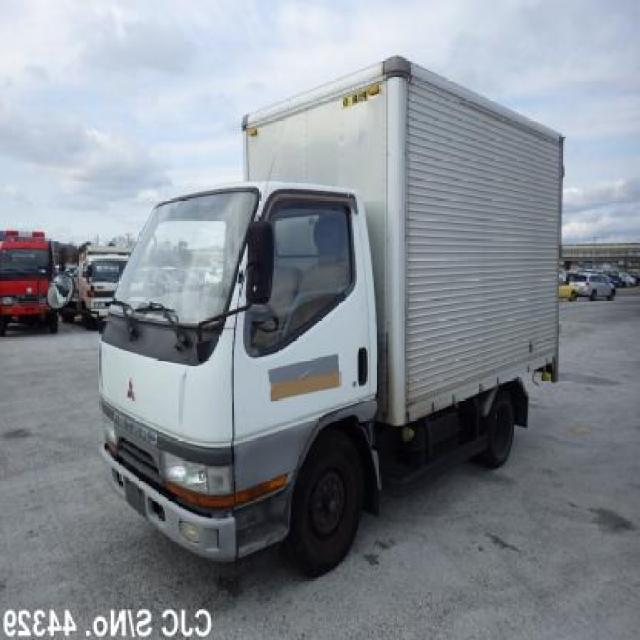truck: (98, 54, 566, 576)
